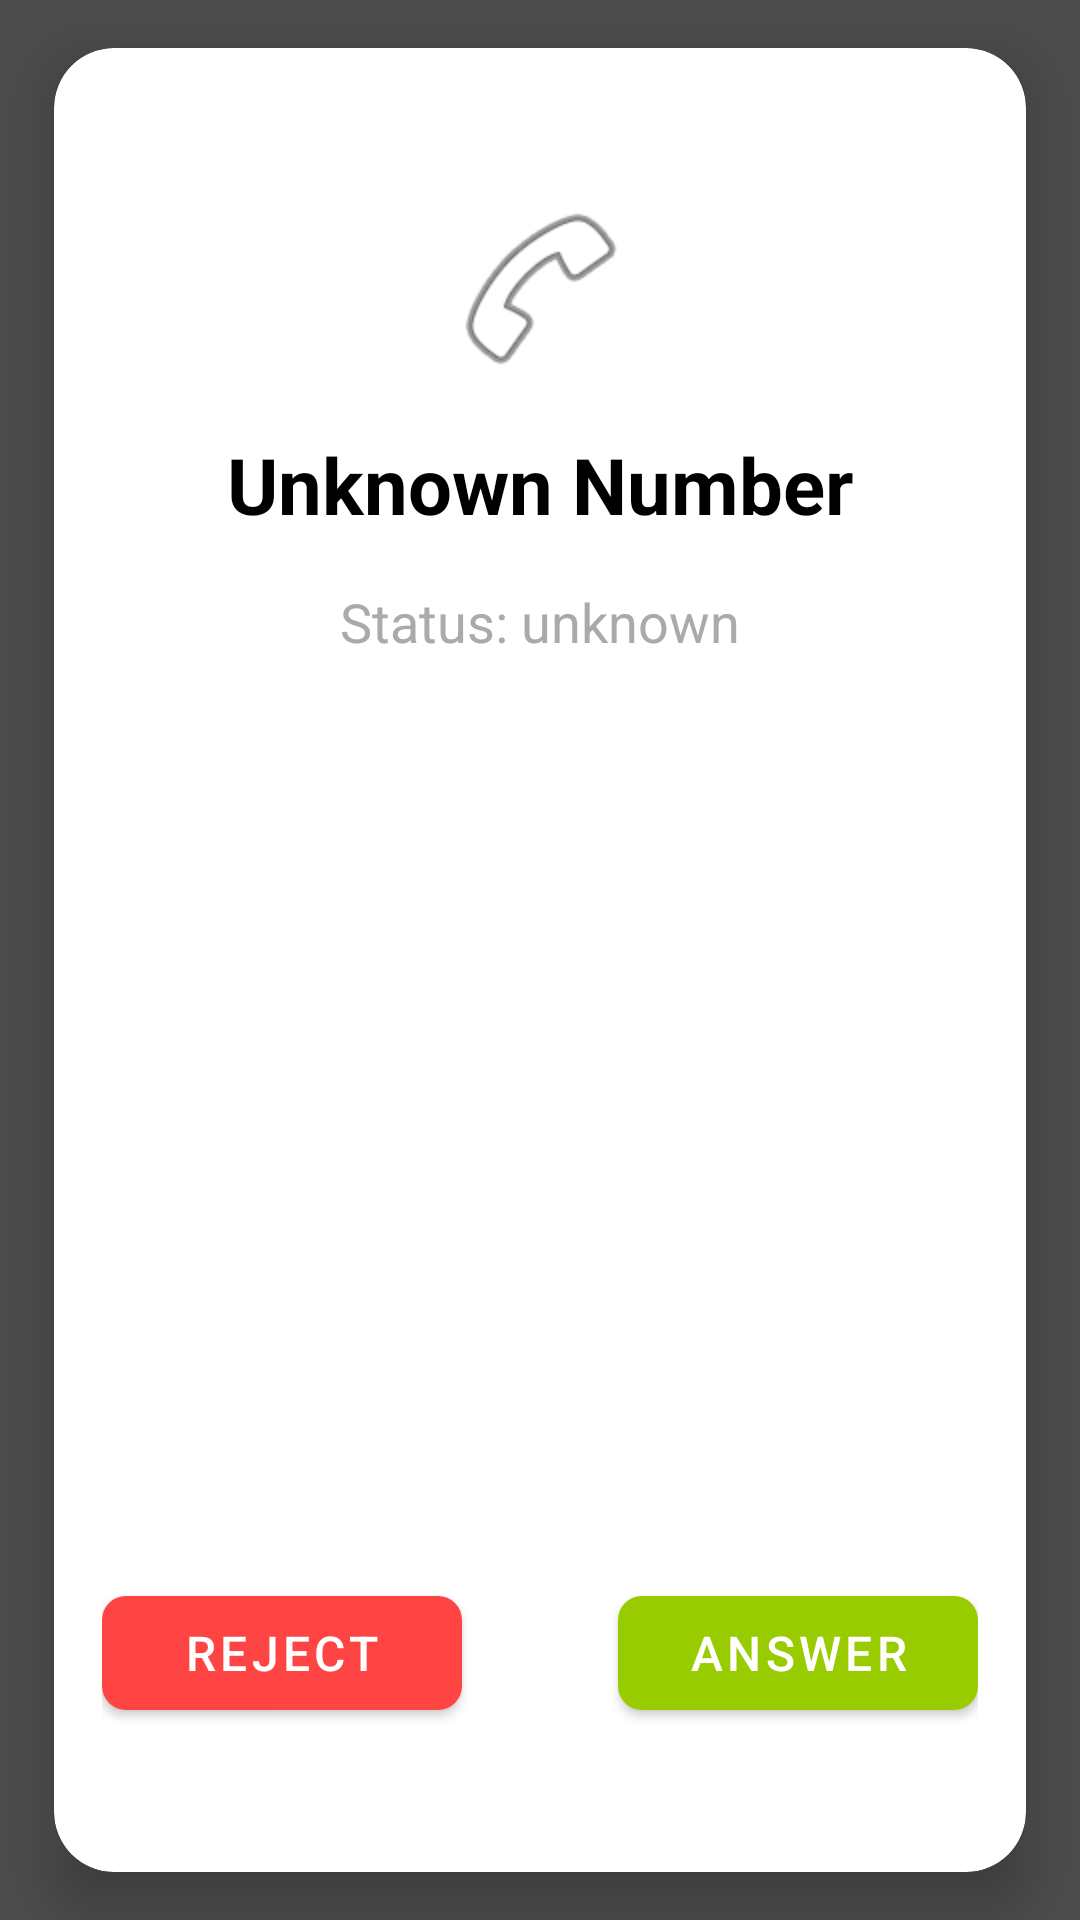

Icons on this 1080×1920 Android screen, each with the point to tap as (x,y):
Caller Icon: (541,289)
